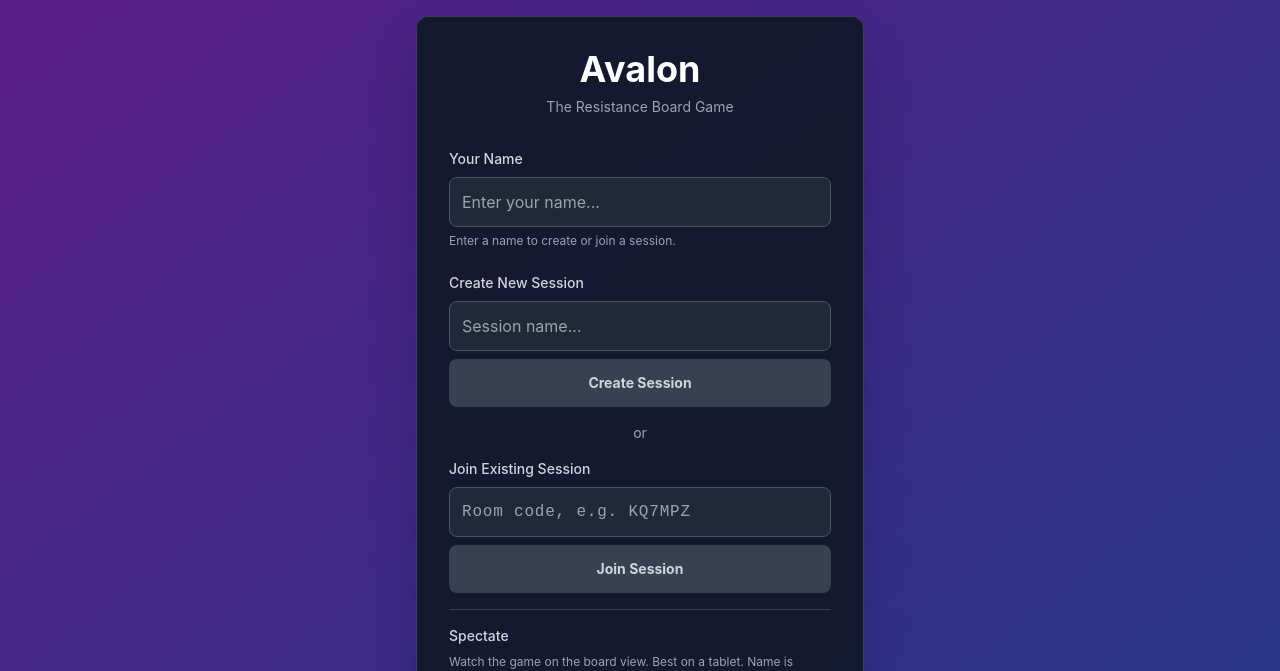
Scenario: MainMenu › join session flow › displays error on join failure
Type "Bob" into the field with placeholder "Enter your name..." at point(640, 202), box 449,177 -> 831,227
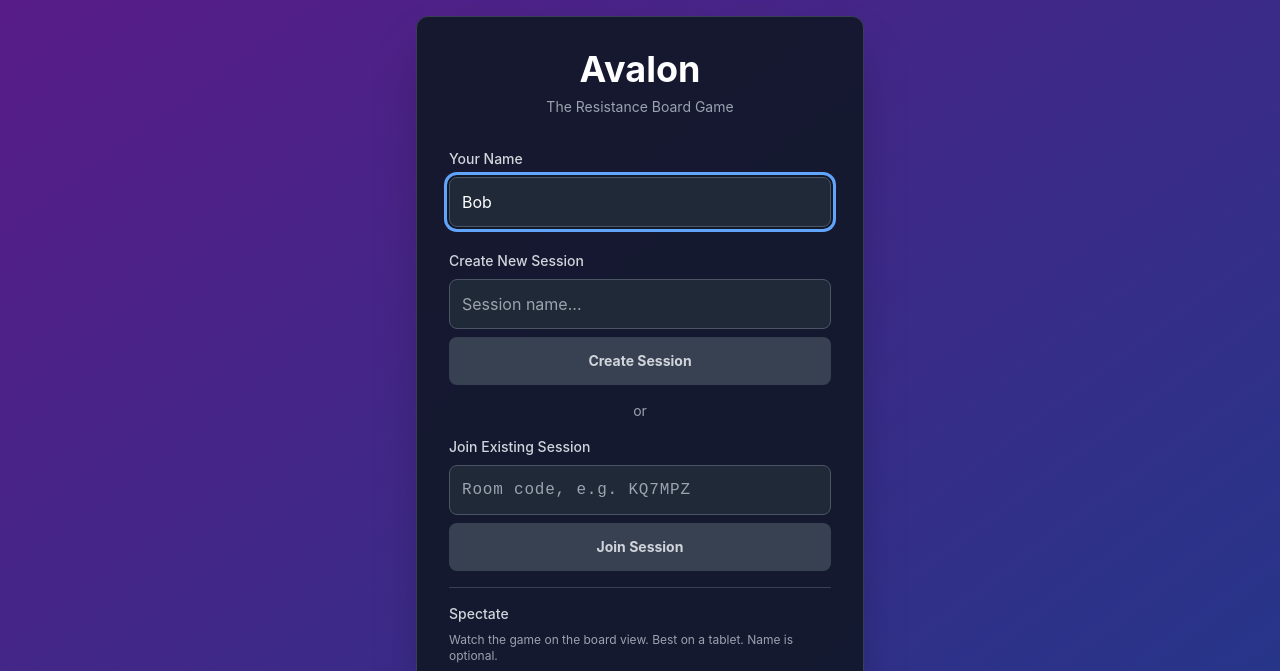
Type "bad-id" into the field with placeholder "Room code, e.g. KQ7MPZ" at point(640, 490), box 449,465 -> 831,515
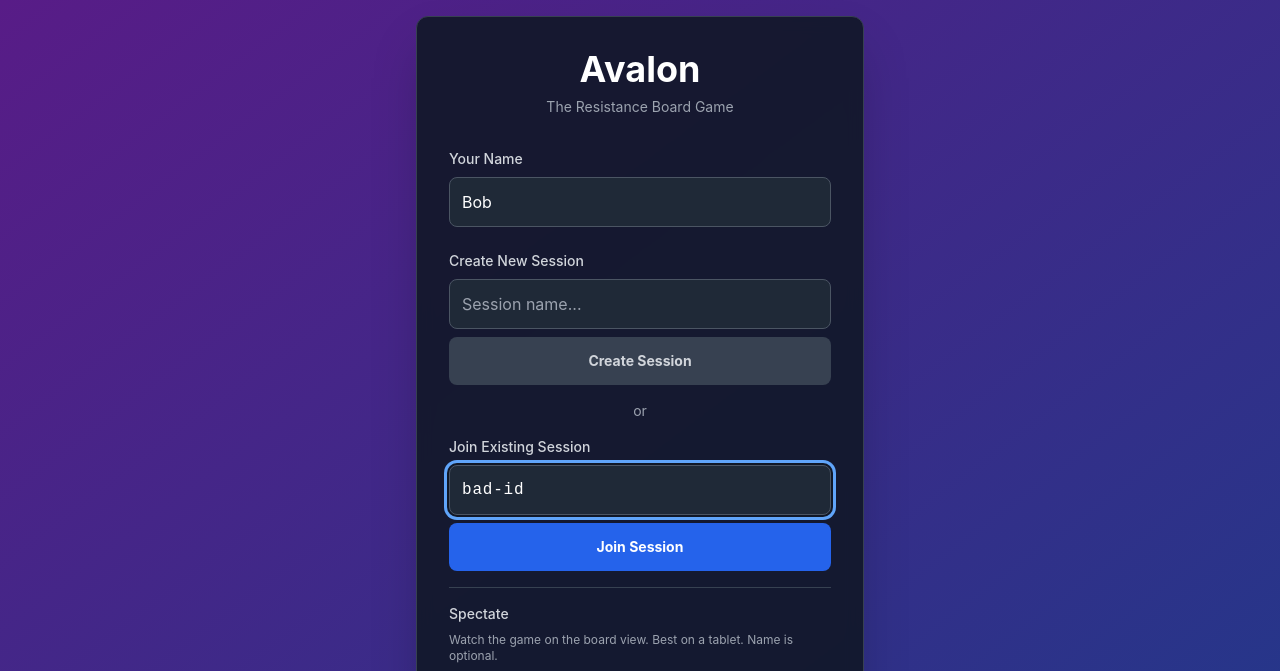
Click the button "Join Session" at point(640, 547), box 449,523 -> 831,571
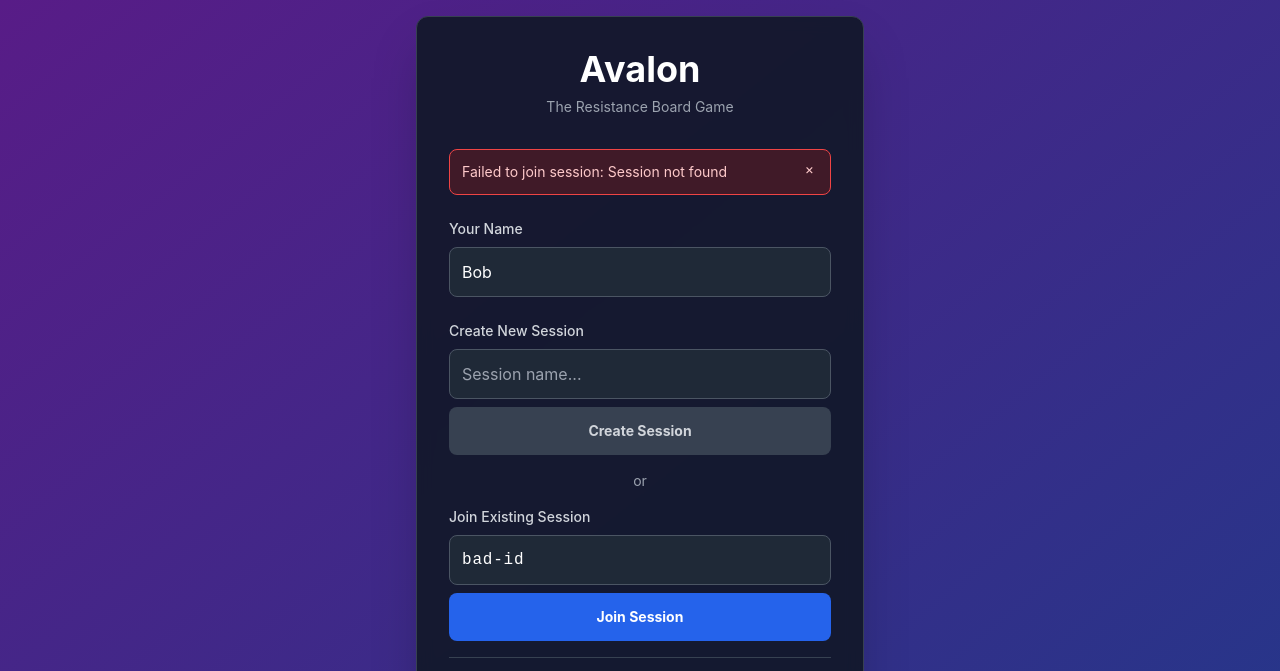
Check: the text "Failed to join session: Session not found" is shown, box 462,163 -> 727,180
